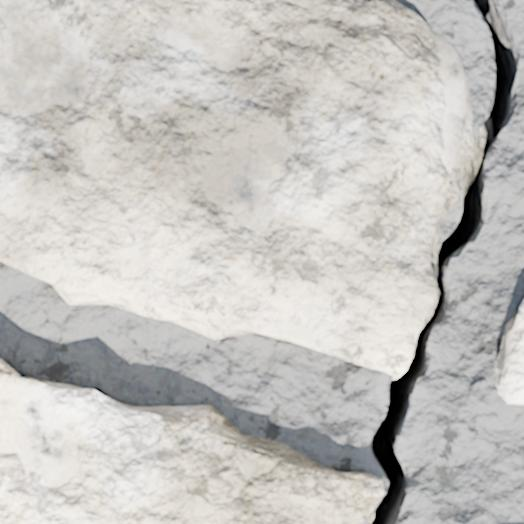brick: (0, 0, 475, 375), (0, 359, 382, 523), (495, 301, 523, 403)
crack: (367, 0, 523, 523)
